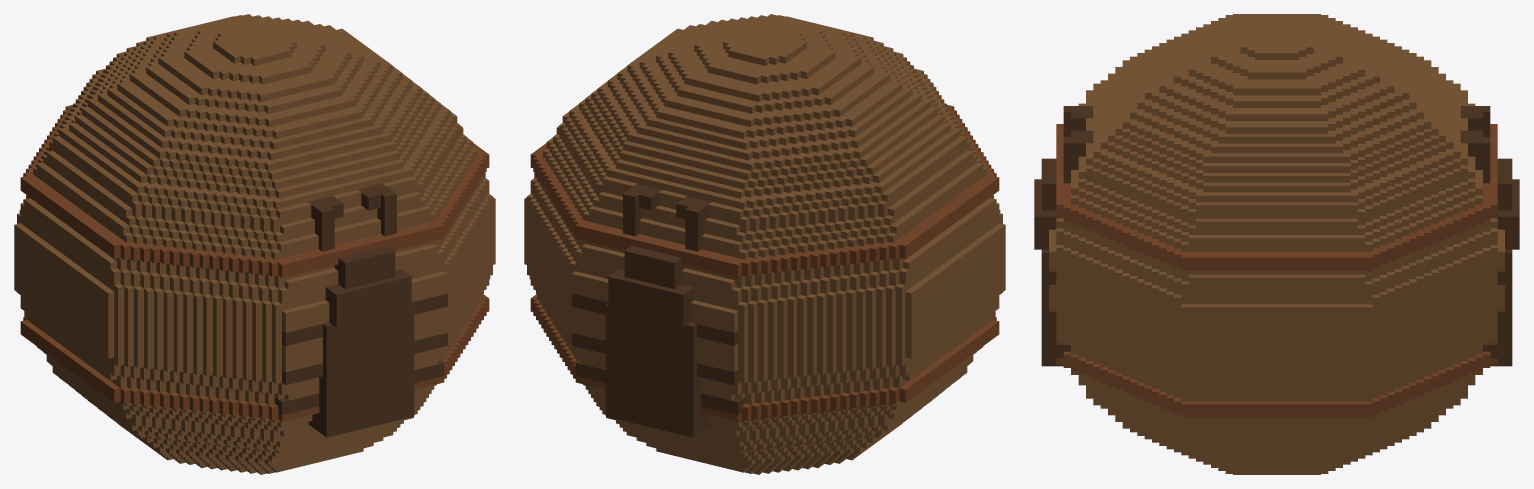
Rendered from carved_beetle_ball.glb.
The picture shows the model from 3 angles, left to right: view 1: azimuth 30°, elevation 25°; view 2: azimuth 150°, elevation 25°; view 3: azimuth 270°, elevation 25°; orthographic projection.
Visible parts, largest first — view 1: carved_beetle_ball:compound; view 2: carved_beetle_ball:compound; view 3: carved_beetle_ball:compound.
Part boxes in pixels (bbox=[...]): carved_beetle_ball:compound: bbox=[14, 14, 495, 474]; carved_beetle_ball:compound: bbox=[524, 14, 1005, 474]; carved_beetle_ball:compound: bbox=[1034, 14, 1519, 474].
Size of the model in its own units: 0.124 by 0.124 by 0.132.
